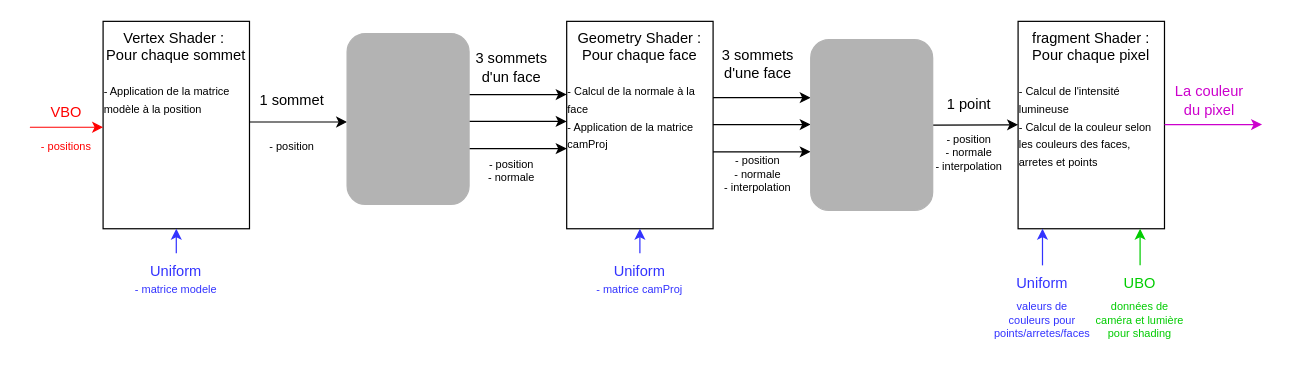
This 1293x372 diagram has some shape labels left out. The box of each missing label's shape, as (x1, y1, x2, y2) in pixels:
Connnection des points avec le EBO: (346, 32, 469, 204)
Rasterisation : interpolation des 3 sommets vers un point de la face: (809, 38, 933, 210)
